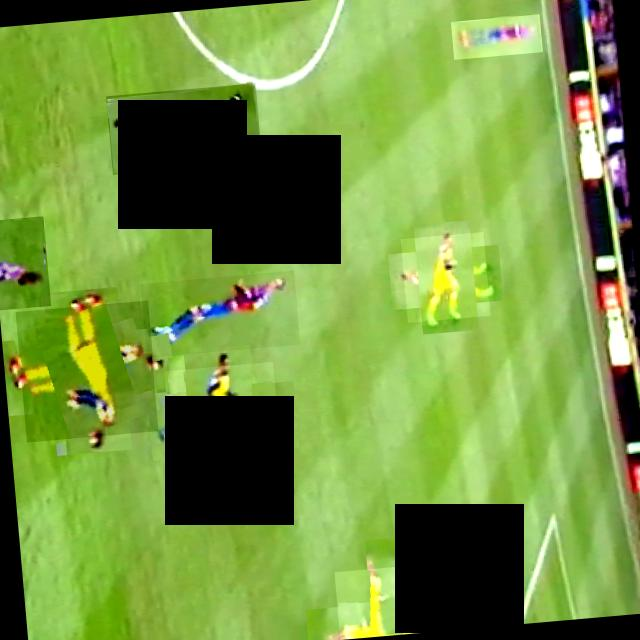referee: (105, 82, 261, 174)
soccer-player: (14, 300, 157, 442), (138, 270, 298, 358), (163, 362, 281, 479), (399, 232, 489, 322), (333, 564, 439, 640), (0, 216, 50, 310), (449, 14, 542, 59)
